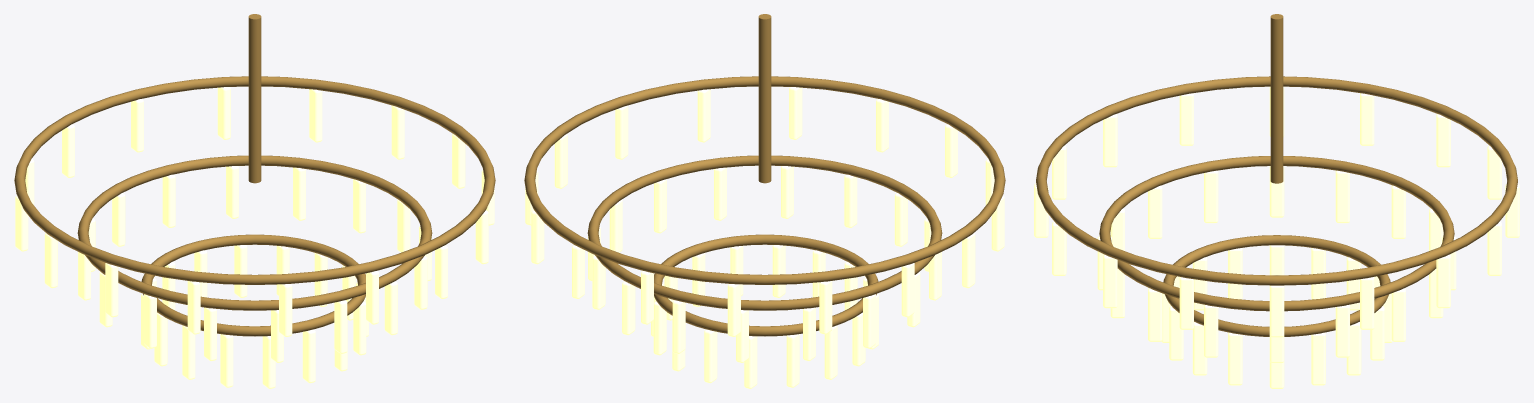
Rendered from chandelier.glb.
The picture shows the model from 3 angles, left to right: view 1: azimuth 30°, elevation 25°; view 2: azimuth 150°, elevation 25°; view 3: azimuth 270°, elevation 25°; orthographic projection.
Parts seen in each view (by area): view 1: chandelier; view 2: chandelier; view 3: chandelier.
Boxes of the visible parts, x1,y1,x2,y2 form: chandelier: (14,14,495,388); chandelier: (524,14,1005,388); chandelier: (1034,14,1519,388).
Size of the model in its own units: 2.66 by 1.98 by 2.68.
